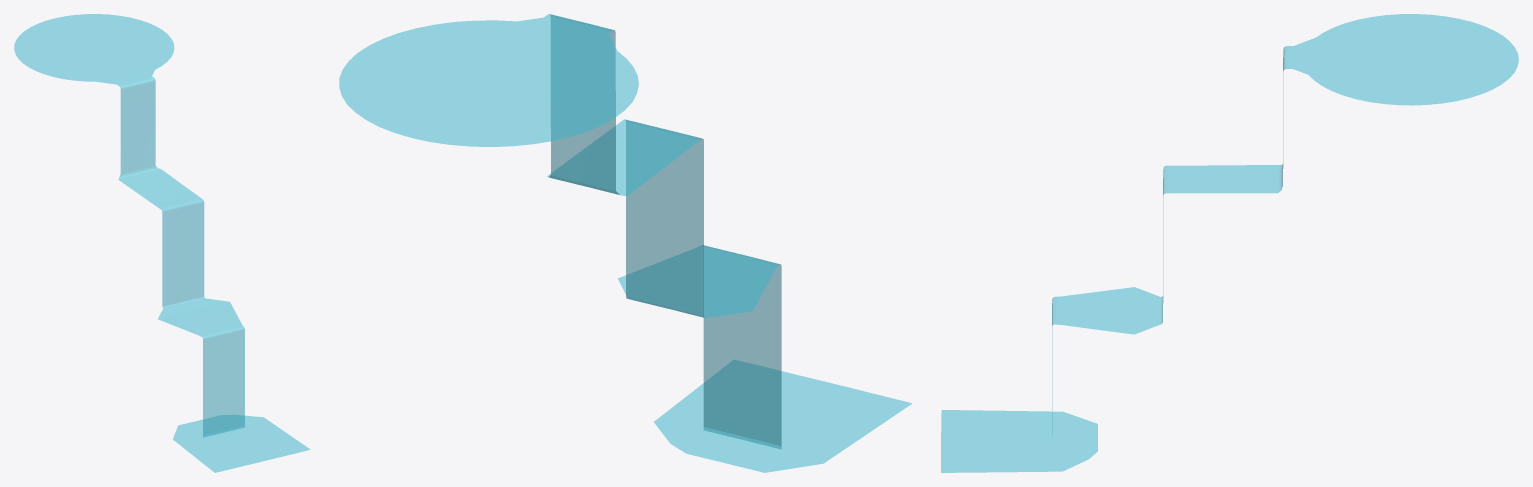
The model's file is SM_WaterFall_02.fbx.
3 views of the same model, side by side, from view 1: azimuth 30°, elevation 25°; view 2: azimuth 150°, elevation 25°; view 3: azimuth 270°, elevation 25° (orthographic). The views are drawn at different scales.
Parts seen in each view (by area): view 1: SM_Waterfall_01; view 2: SM_Waterfall_01; view 3: SM_Waterfall_01.
Part boxes in pixels (left/top/right/bottom): SM_Waterfall_01: left=14, top=14, right=309, bottom=472; SM_Waterfall_01: left=339, top=14, right=911, bottom=472; SM_Waterfall_01: left=941, top=14, right=1518, bottom=472.
Bounding box in the file's own units: 458 × 904 × 1221.
